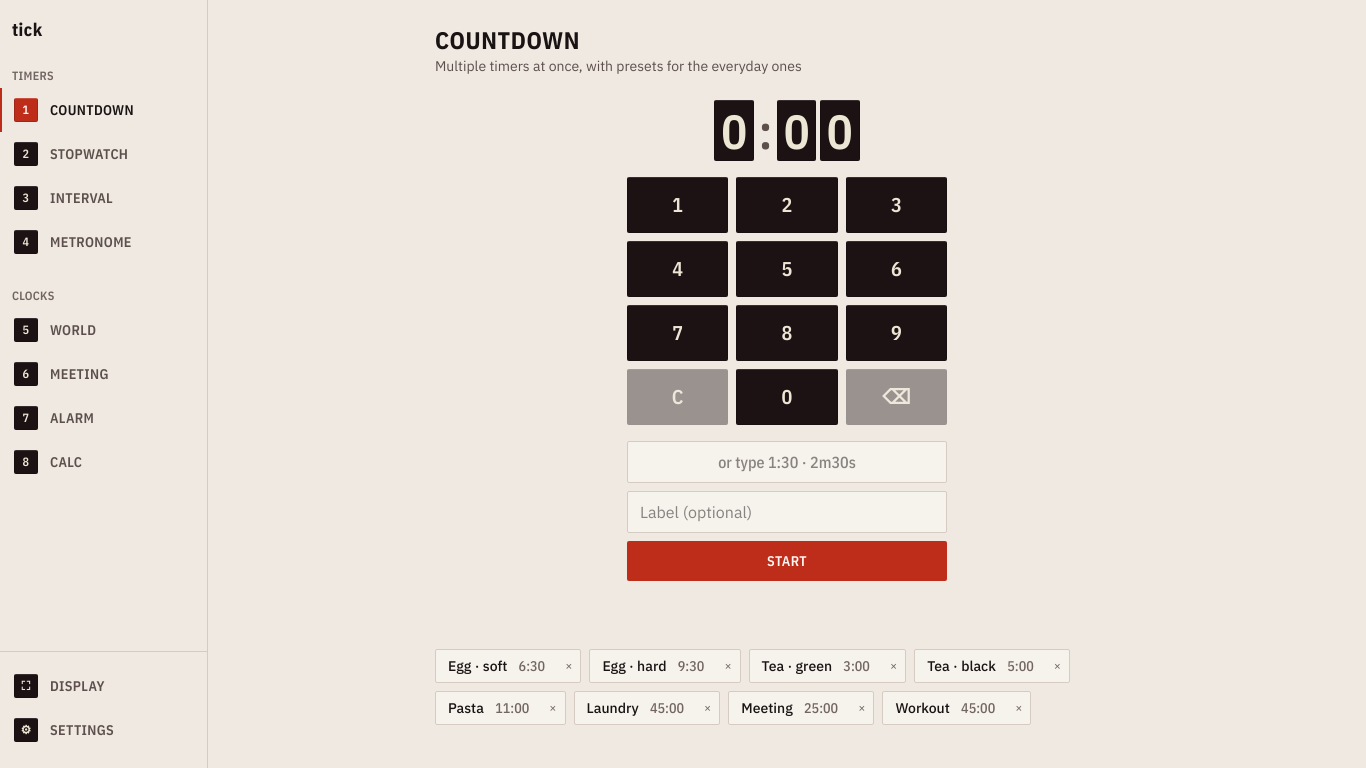
Test case: every tool, end to end › metronome: really schedules beats, and stopping really stops them
The image size is (1366, 768).
Step 1. Press 4
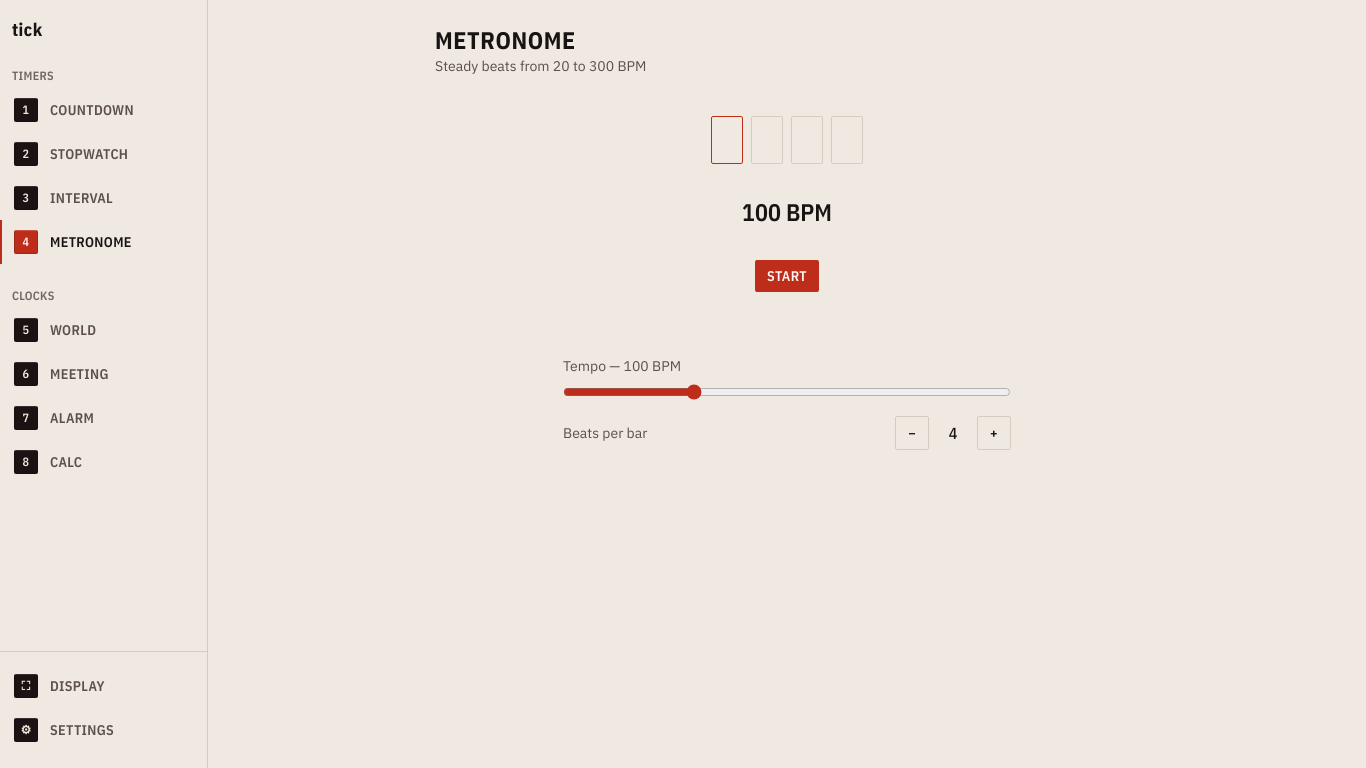
expect the heading "Metronome" is shown: met, box [435,24,576,56]
Step 2. Click the button "Start" → coordinates (787, 276), box [755,260,819,292]
Wait 1000 ms
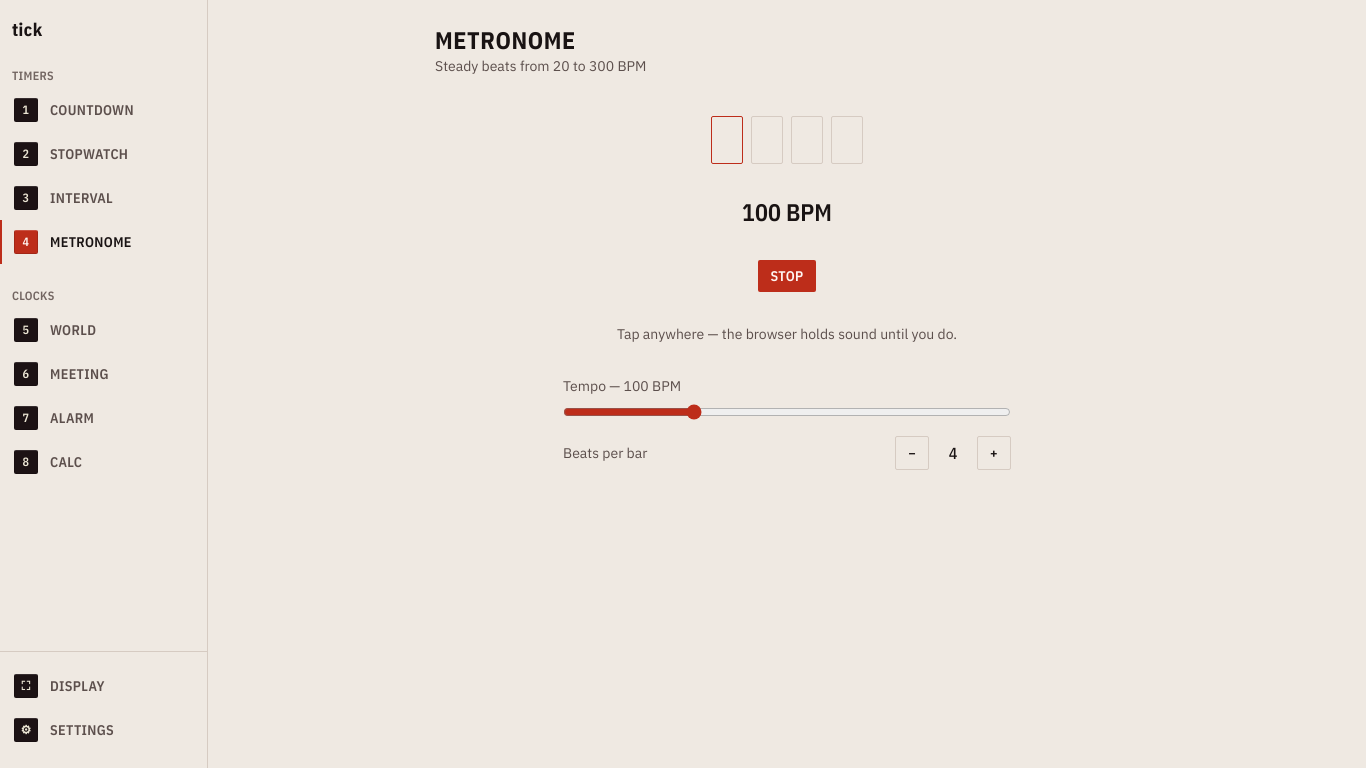
expect the button "Stop" is shown: met
Step 3. Click the button "Stop" → coordinates (787, 276), box [758,260,816,292]
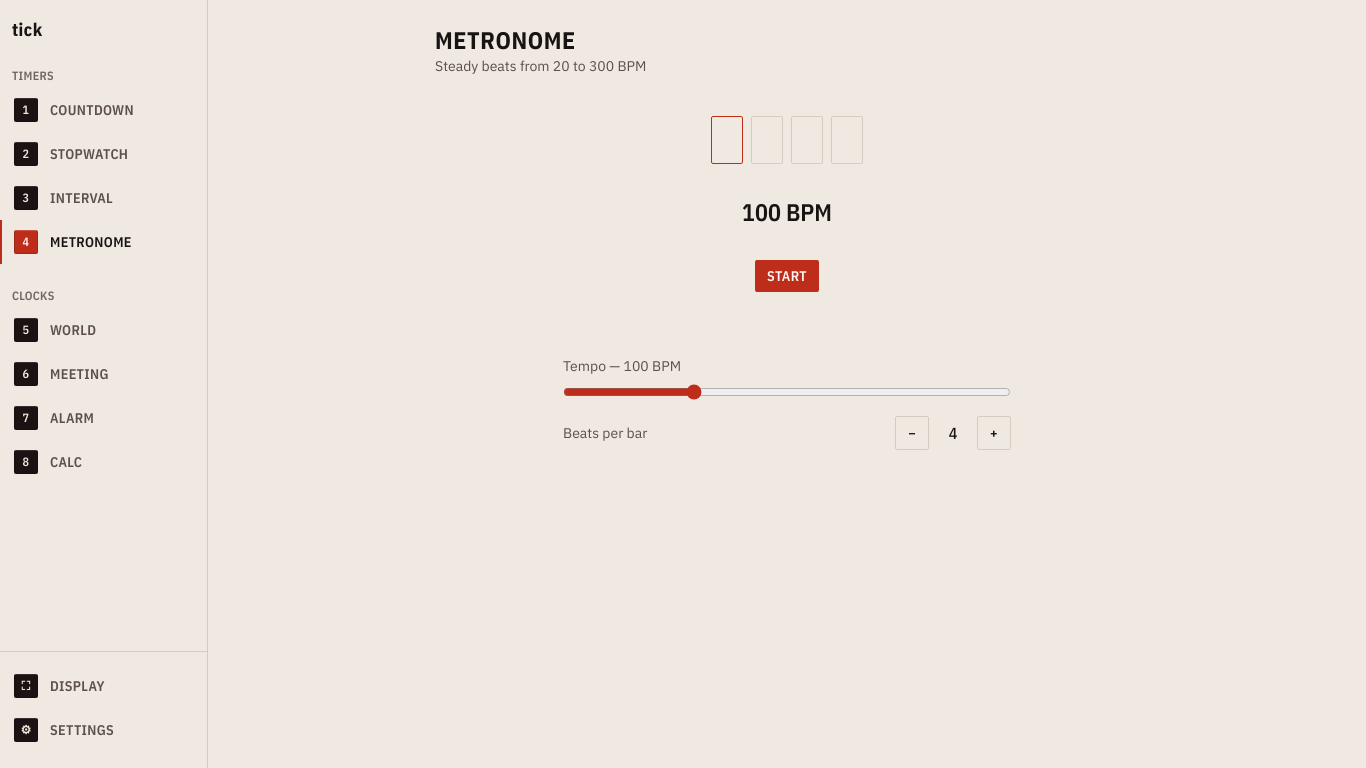
expect the button "Start" is shown: met, box [755,260,819,292]
